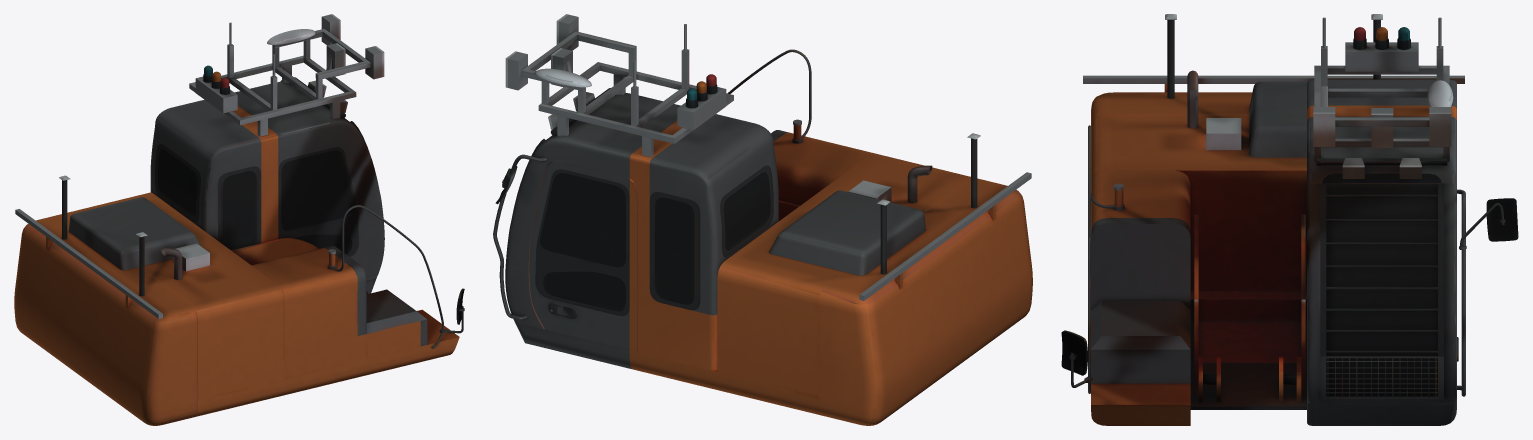
File: zx120-body.dae
The picture shows the model from 3 angles, left to right: view 1: azimuth 30°, elevation 25°; view 2: azimuth 150°, elevation 25°; view 3: azimuth 270°, elevation 25°; orthographic projection. The views are drawn at different scales.
Visible parts, largest first — view 1: bake_body; view 2: bake_body; view 3: bake_body.
Boxes of the visible parts, x1,y1,x2,y2 form: bake_body: (14,14,464,425); bake_body: (493,14,1032,425); bake_body: (1061,14,1518,425).
Size of the model in its own units: 3.42 by 3.11 by 2.62.
1 material, 1 textured.
